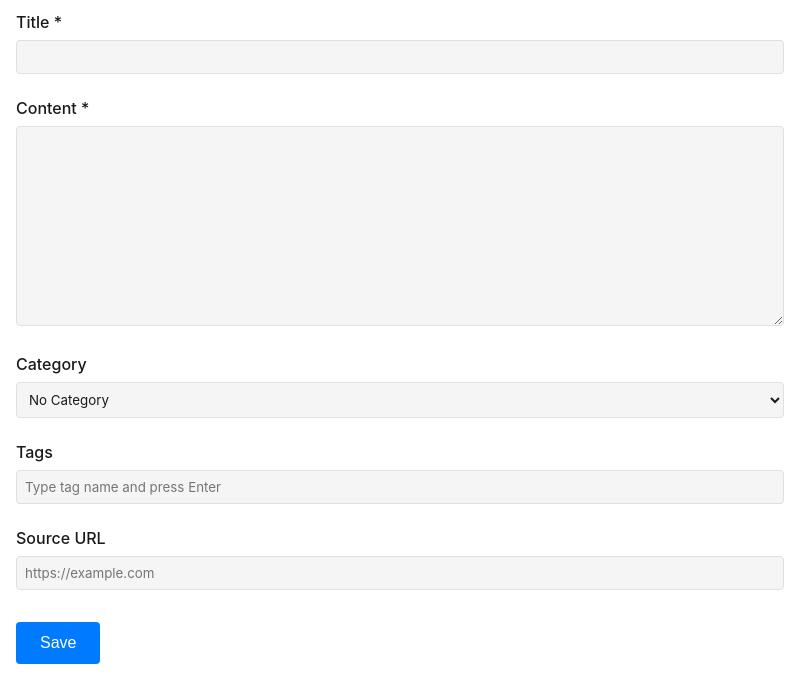
Scenario: NoteEditor Component › should show loading state during save
Type "New Note" into the field labelled "Title *".
click(400, 57); type("New Note")  # box [16, 40, 784, 74]
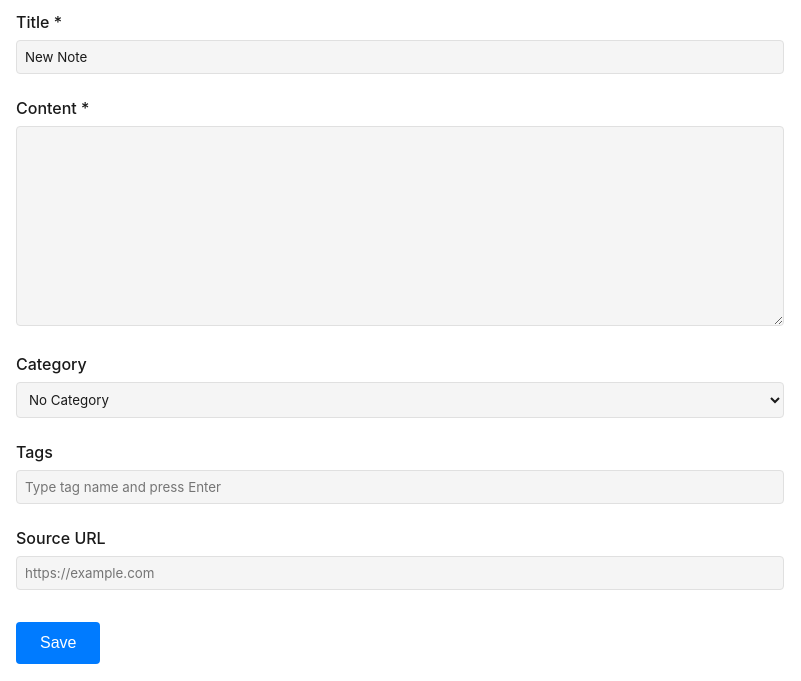
Type "Content" into the text box labelled "Content *".
click(400, 226); type("Content")  # box [16, 126, 784, 326]
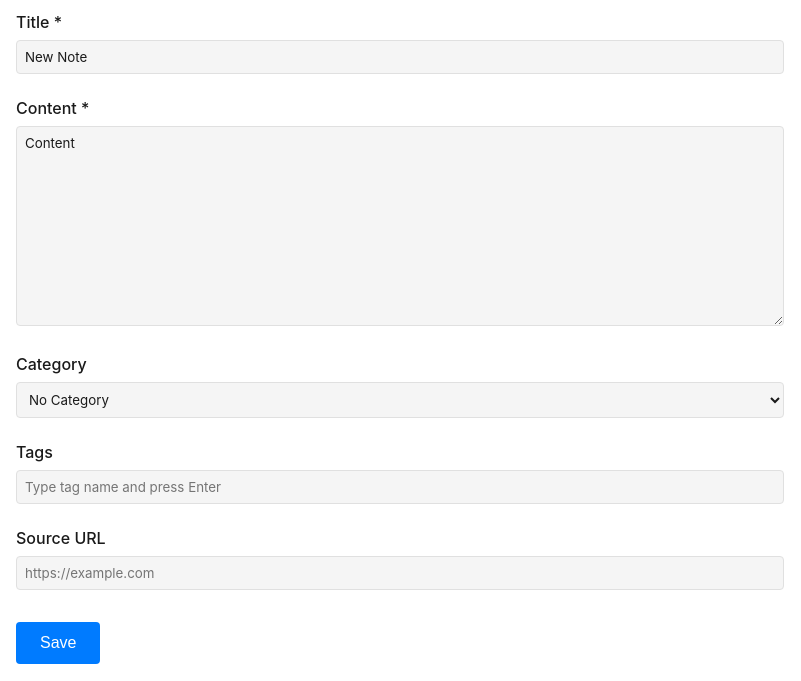
Click the button "Save".
click(58, 643)  # box [16, 622, 100, 664]
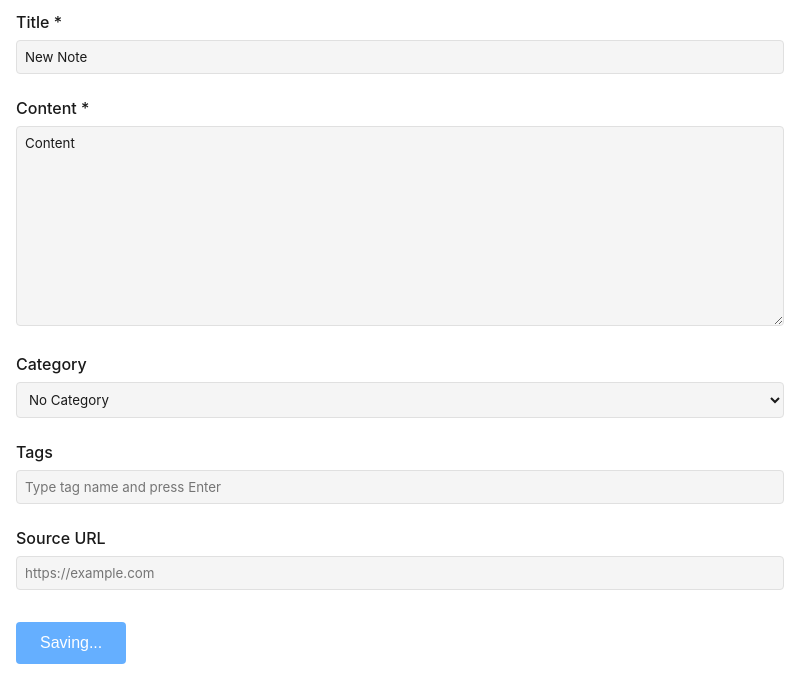
expect the button named "save" is disabled: met, box [16, 622, 126, 664]
